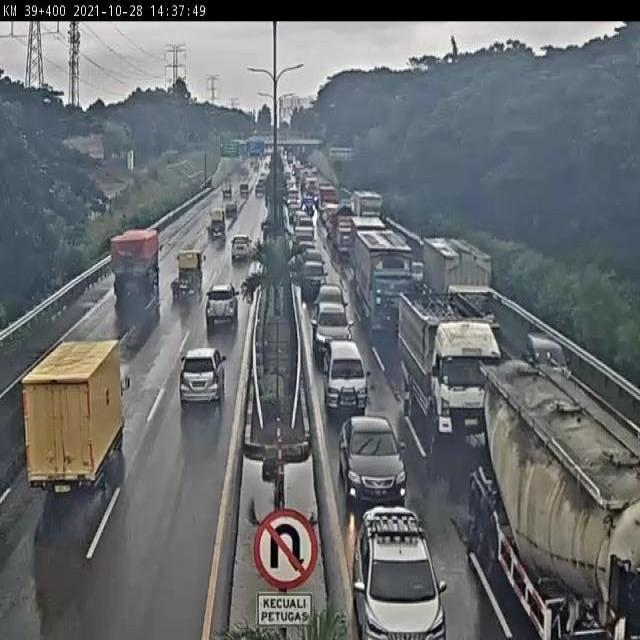big truck: (463, 341, 640, 640), (392, 286, 525, 462), (11, 325, 130, 499), (421, 223, 511, 344), (347, 222, 433, 342), (106, 207, 164, 300), (168, 240, 207, 307), (350, 180, 394, 223), (329, 205, 365, 256), (205, 206, 231, 242)
car: (349, 506, 448, 640), (339, 414, 422, 506), (519, 319, 580, 389), (176, 340, 236, 411), (312, 300, 364, 364), (204, 275, 245, 328), (314, 283, 359, 320), (301, 260, 340, 299), (231, 230, 261, 270), (302, 247, 330, 265), (223, 198, 243, 222), (294, 224, 315, 244), (296, 237, 322, 252), (239, 174, 253, 198)
small bus: (322, 340, 386, 421)
small truck: (215, 172, 238, 199)
